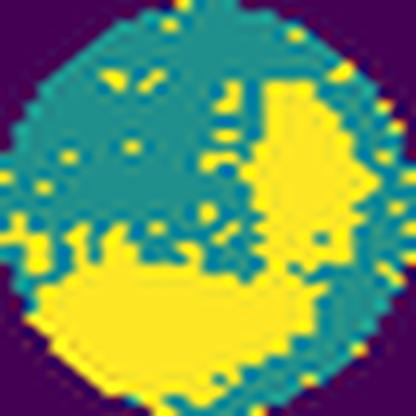Donut: (11, 55, 376, 412)
